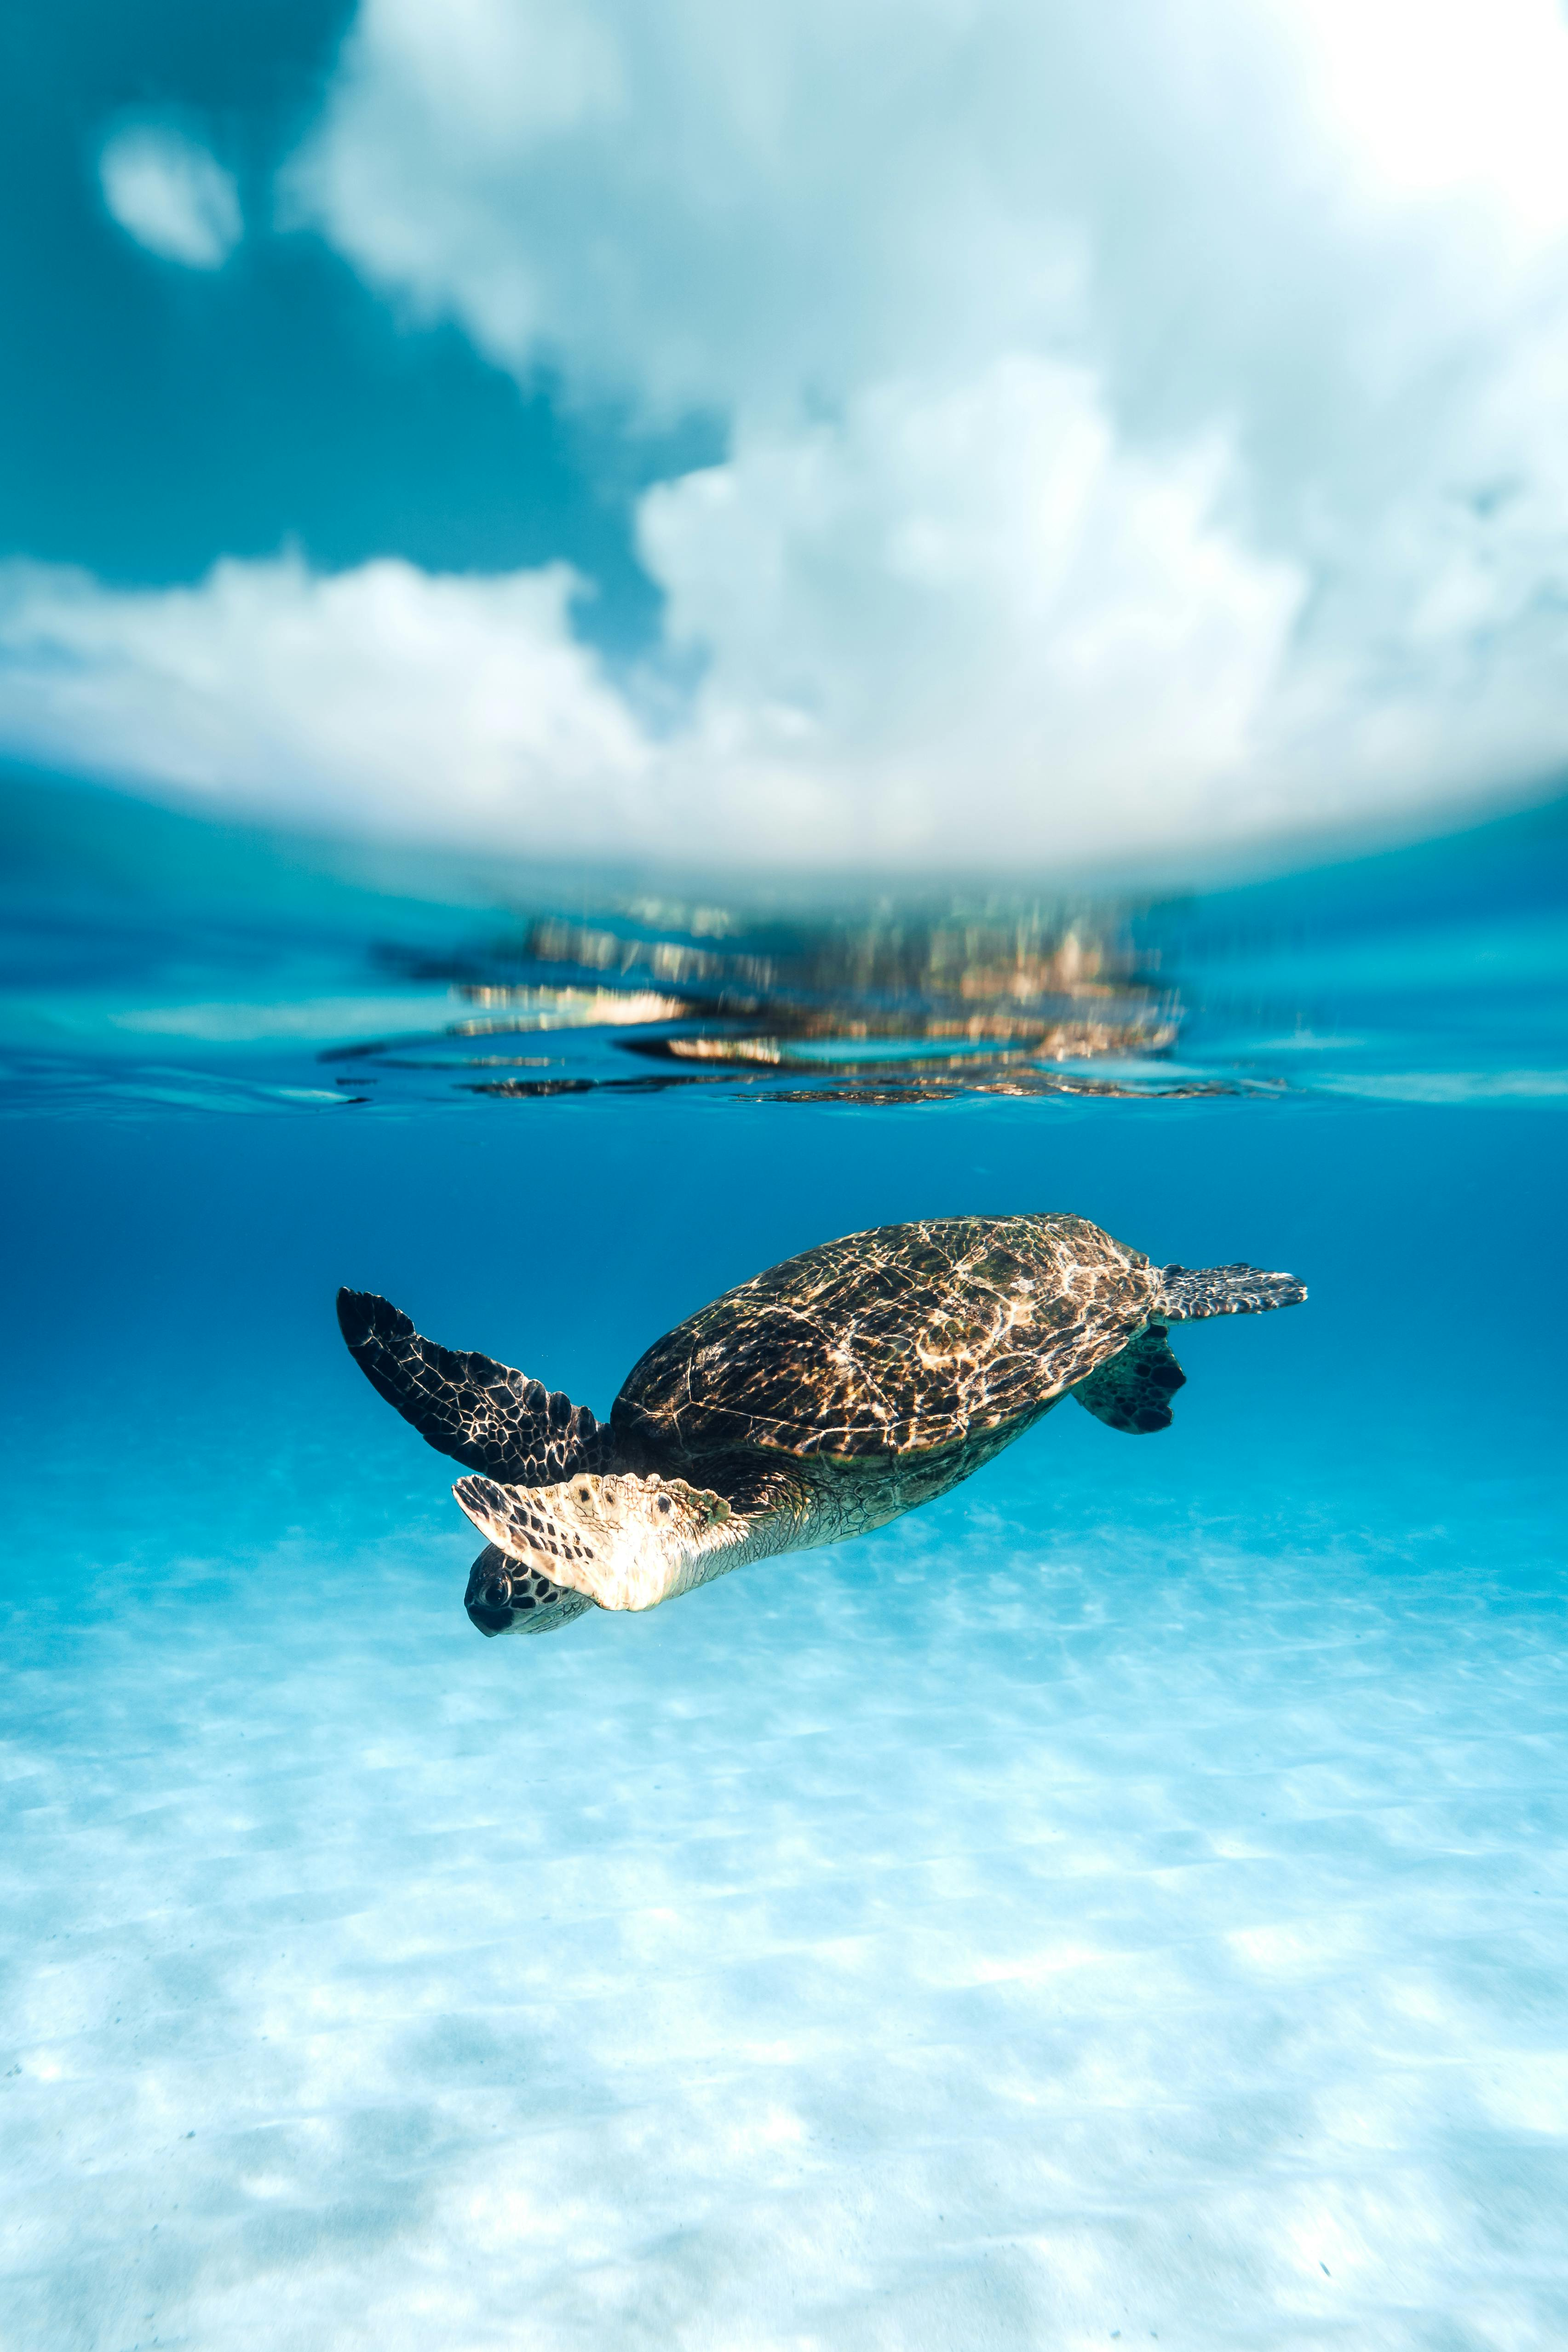turtle: (325, 1202, 1318, 1650)
